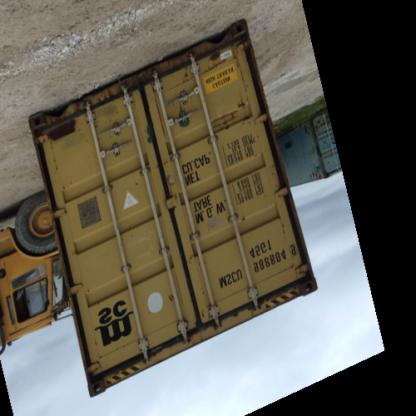Damage: (204, 99, 256, 140), (41, 114, 83, 150), (90, 334, 112, 366)
